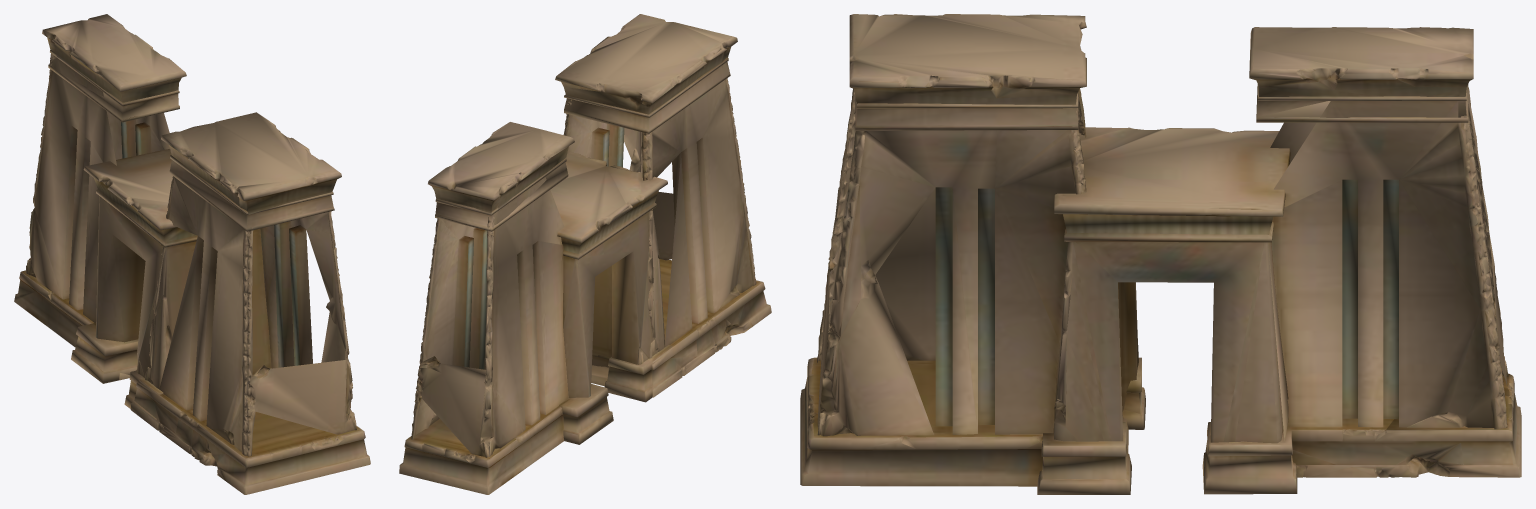
The model's file is greatGate.glb.
3 renders of one model, left to right at view 1: azimuth 30°, elevation 25°; view 2: azimuth 150°, elevation 25°; view 3: azimuth 270°, elevation 25°, orthographic. The views are drawn at different scales.
Visible parts, largest first — view 1: tripo_node_dee4fd15-ee99-4617-8e26-28f47020015c; view 2: tripo_node_dee4fd15-ee99-4617-8e26-28f47020015c; view 3: tripo_node_dee4fd15-ee99-4617-8e26-28f47020015c.
Part boxes in pixels (box(x1,y1,x2,y2)): tripo_node_dee4fd15-ee99-4617-8e26-28f47020015c: box(14, 14, 370, 494); tripo_node_dee4fd15-ee99-4617-8e26-28f47020015c: box(399, 14, 771, 494); tripo_node_dee4fd15-ee99-4617-8e26-28f47020015c: box(800, 14, 1521, 494).
Size of the model in its own units: 0.3145 by 0.6094 by 0.998.
Materials: 1 (1 with a texture image).
